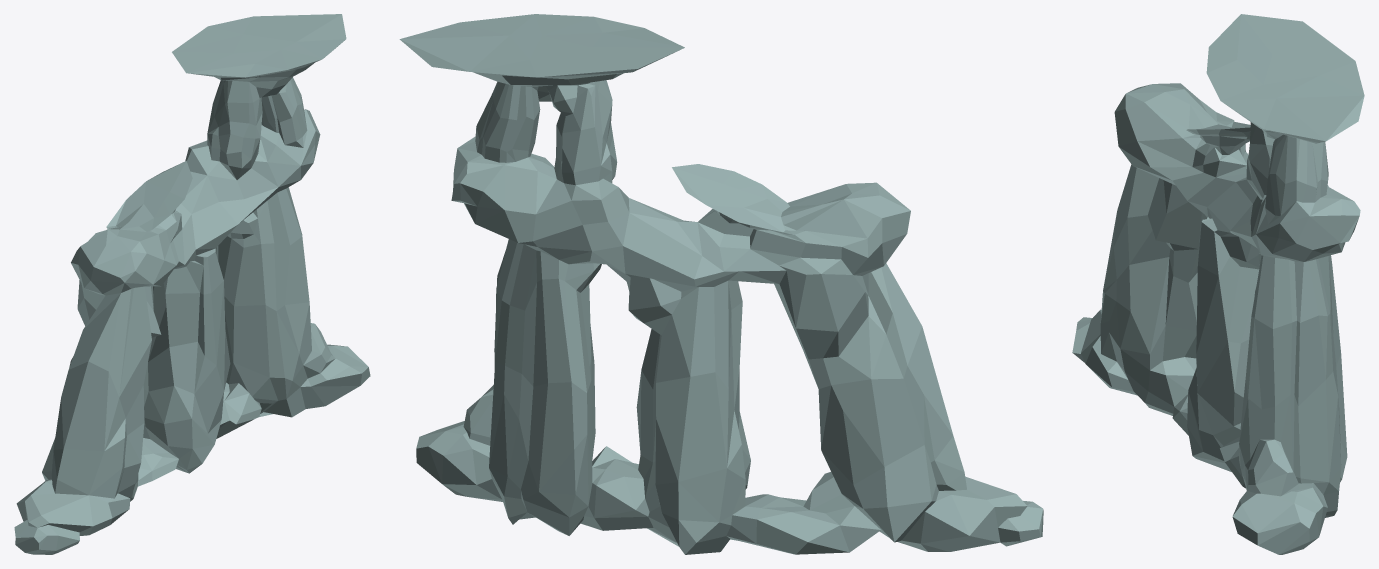
Rendered from HolePillar2 (1).fbx.
The picture shows the model from 3 angles, left to right: view 1: azimuth 30°, elevation 25°; view 2: azimuth 150°, elevation 25°; view 3: azimuth 270°, elevation 25°; orthographic projection. The views are drawn at different scales.
Parts seen in each view (by area): view 1: HolePillar2; view 2: HolePillar2; view 3: HolePillar2.
Boxes of the visible parts, box(x1,y1,x2,y2) form: HolePillar2: box(14, 14, 370, 554); HolePillar2: box(399, 14, 1043, 554); HolePillar2: box(1072, 14, 1364, 554).
Size of the model in its own units: 66819 by 59393 by 34039.
